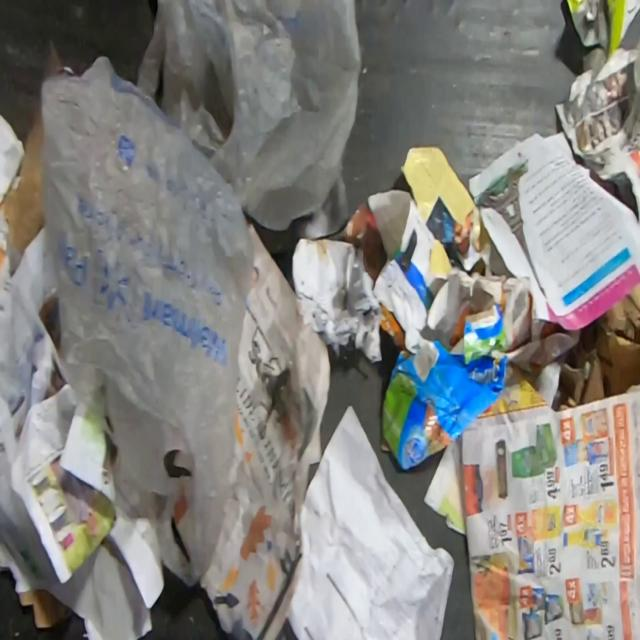cardboard: (379, 301, 509, 470), (552, 281, 640, 411), (0, 104, 45, 253), (18, 589, 76, 630)
soft_plastic: (37, 51, 256, 590), (133, 0, 364, 256)
